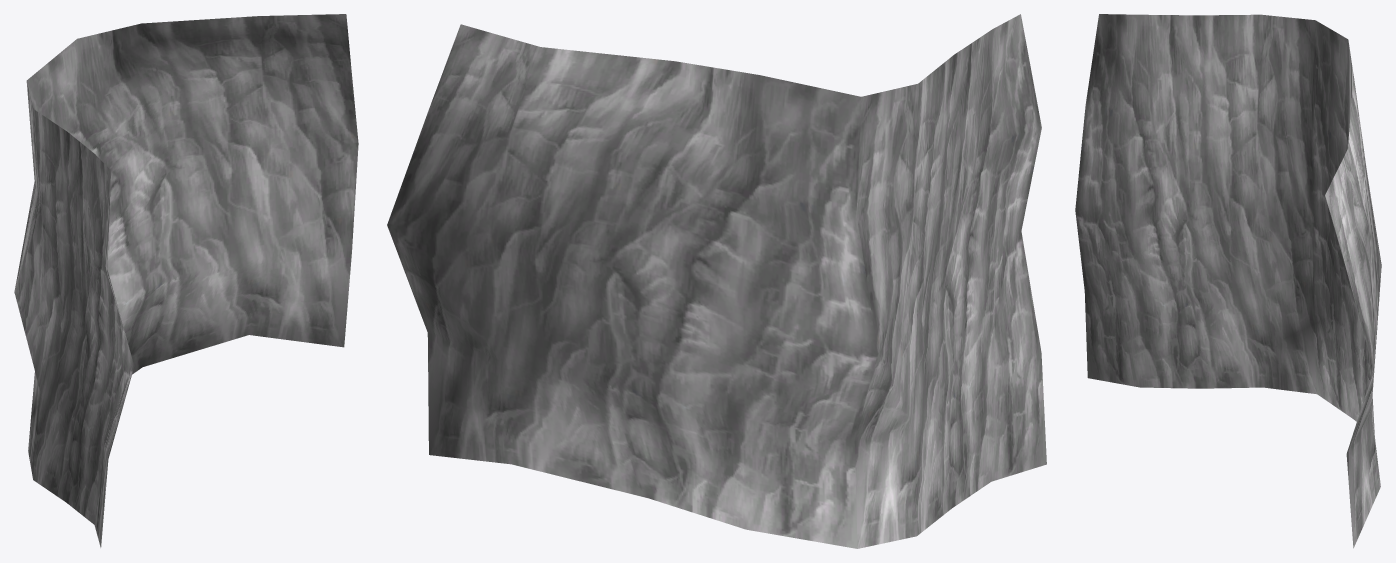
Rendered from SWORDLIGHT20_PS-AREA03_73.fbx.
The picture shows the model from 3 angles, left to right: view 1: azimuth 30°, elevation 25°; view 2: azimuth 150°, elevation 25°; view 3: azimuth 270°, elevation 25°; orthographic projection. The views are drawn at different scales.
Parts seen in each view (by area): view 1: SWORDLIGHT20_PS-AREA03_73; view 2: SWORDLIGHT20_PS-AREA03_73; view 3: SWORDLIGHT20_PS-AREA03_73.
Boxes of the visible parts, bbox=[...] form: SWORDLIGHT20_PS-AREA03_73: bbox=[14, 14, 358, 547]; SWORDLIGHT20_PS-AREA03_73: bbox=[387, 14, 1046, 548]; SWORDLIGHT20_PS-AREA03_73: bbox=[1075, 14, 1381, 548].
Bounding box in the file's own units: 112973 × 105068 × 74691.
Materials: 1 (1 with a texture image).
